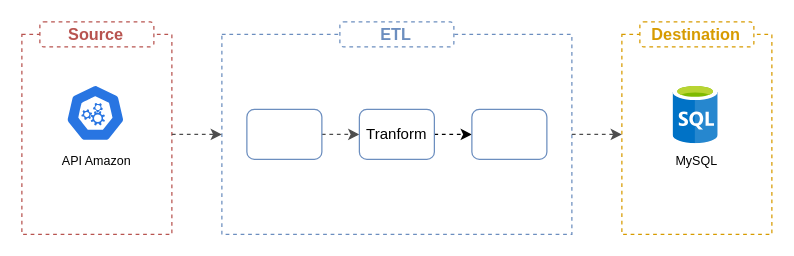
This 794x256 diagram has some shape labels left out. Each missing label, with the centre of its shape:
Extract: [284,133]
Load: [509,133]
